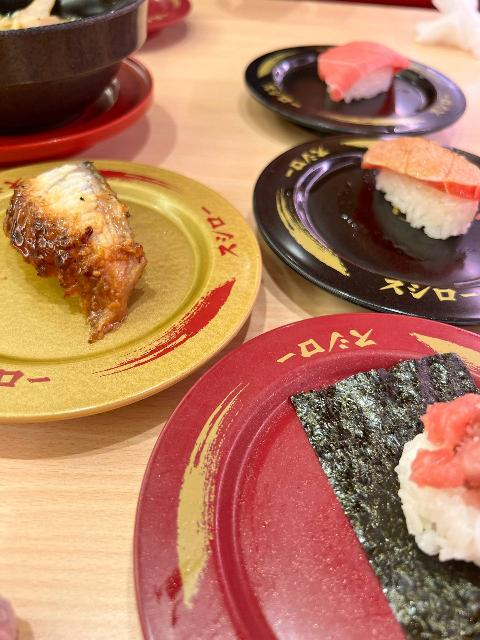janback: (236, 130, 480, 300), (242, 31, 476, 136)
jangold: (0, 149, 251, 380)
janred: (170, 339, 480, 640), (0, 41, 210, 150), (143, 0, 207, 35)
